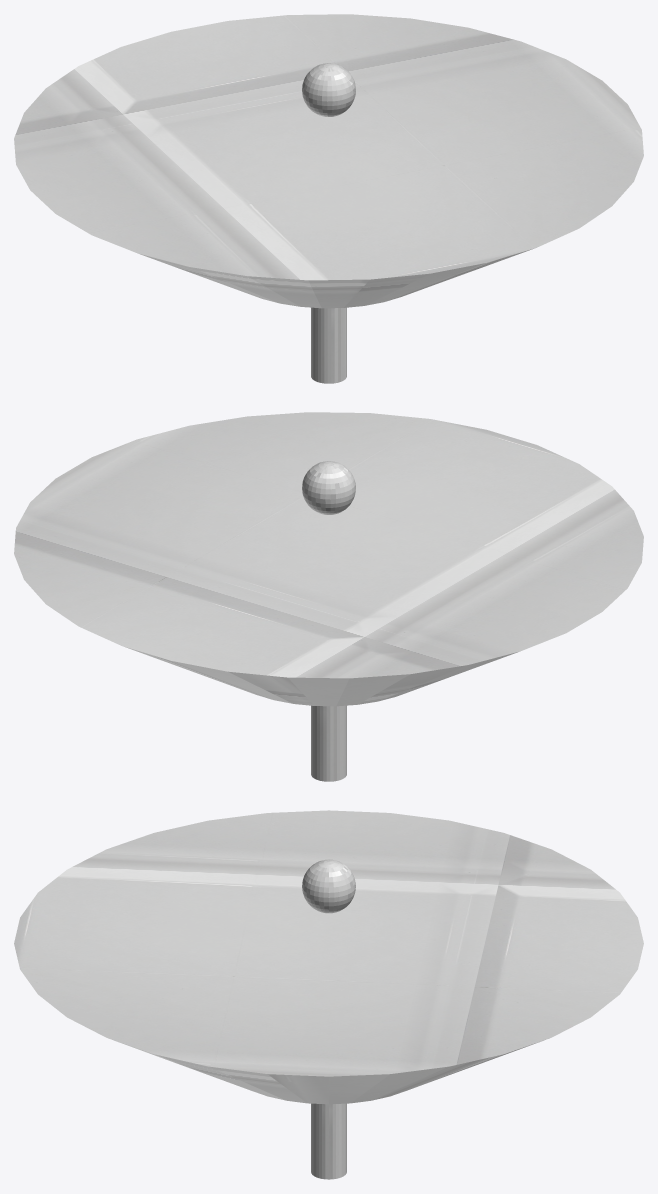
File: dish_large.glb
3 views of the same model, one above another, from view 1: azimuth 30°, elevation 25°; view 2: azimuth 150°, elevation 25°; view 3: azimuth 270°, elevation 25° (orthographic).
Parts seen in each view (by area): view 1: Cone; view 2: Cone; view 3: Cone.
Part boxes in pixels (x1,y1,x2,y2): Cone: (14,14,643,383); Cone: (14,412,643,781); Cone: (14,810,643,1179).
Bounding box in the file's own units: 0.7 × 0.38 × 0.7.
1 material, 1 textured.
